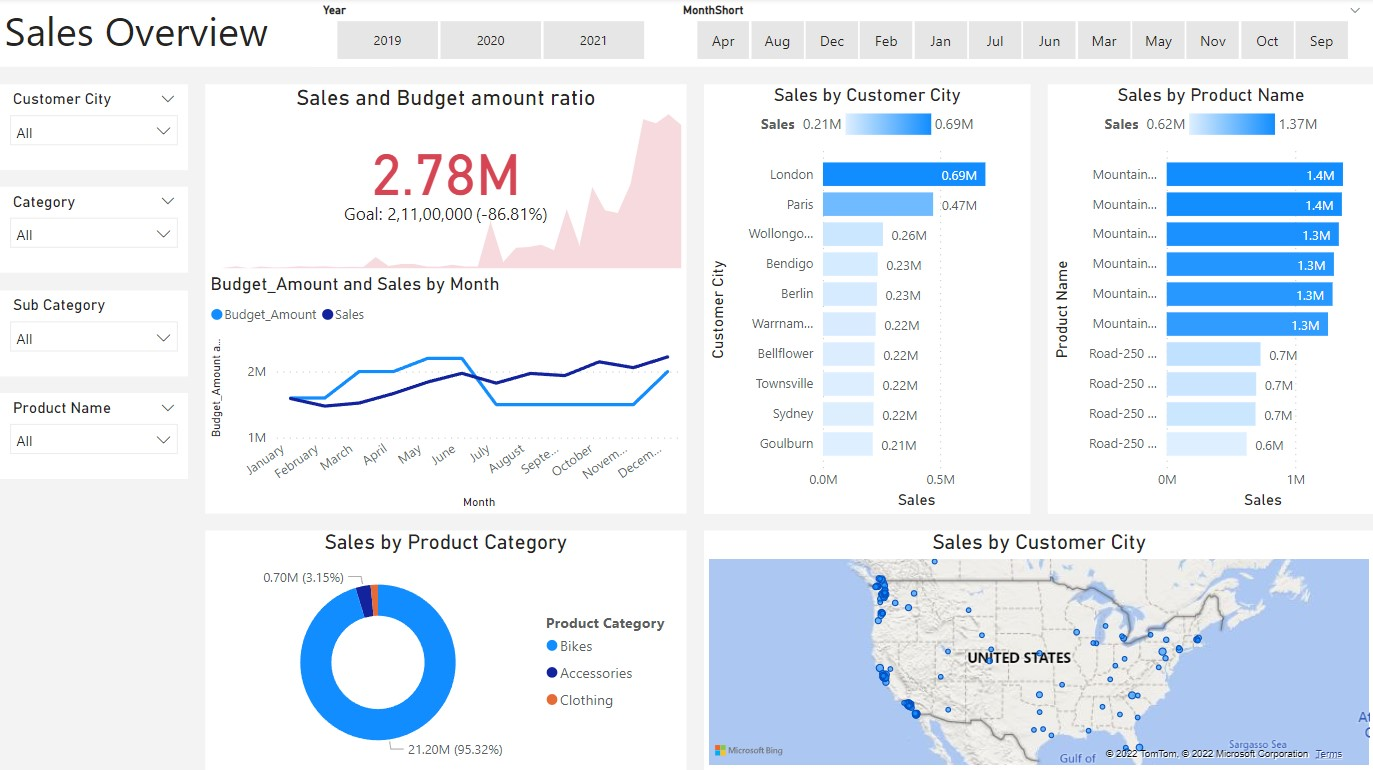

The page's visual inventory and layout, read from the dashboard file:
{"tool":"powerbi","page":{"name":"Sales Overview","canvas":[1280,720],"ordinal":0},"visuals":[{"type":"kpi","title":"Sales and Budget amount ratio","fields":{"Goal":["Budget.Budget_Amount"],"Indicator":["FactInternetSale.Sales"],"TrendLine":["FactInternetSale.SalesAmount"]},"box":[192,80,448,176],"z":0},{"type":"donutChart","fields":{"Y":["FactInternetSale.Sales"],"Category":["DIM_Products.Product Category"]},"box":[192,496,448,224],"z":1000},{"type":"map","fields":{"Category":["DIM_Customer.Customer City"],"Size":["FactInternetSale.Sales"]},"box":[656,496,624,224],"z":2000},{"type":"textbox","box":[0,0,368,64],"z":3000},{"type":"slicer","fields":{"Values":["Dim_Date_Excel.Year"]},"box":[288,0,336,64],"z":4000},{"type":"slicer","fields":{"Values":["Dim_Date_Excel.MonthShort"]},"box":[624,0,656,64],"z":5000},{"type":"barChart","fields":{"Category":["DIM_Customer.Customer City"],"Y":["FactInternetSale.Sales"]},"box":[656,80,304,400],"z":6000},{"type":"slicer","fields":{"Values":["DIM_Customer.Customer City"]},"box":[0,80,176,80],"z":7000},{"type":"slicer","fields":{"Values":["DIM_Products.Sub Category"]},"box":[0,272,176,80],"z":8000},{"type":"slicer","fields":{"Values":["DIM_Products.Product Category"]},"box":[0,176,176,80],"z":9000},{"type":"slicer","fields":{"Values":["DIM_Products.Product Name"]},"box":[0,368,176,80],"z":10000},{"type":"barChart","fields":{"Category":["DIM_Products.Product Name"],"Y":["FactInternetSale.Sales"]},"box":[976,80,304,400],"z":11000},{"type":"lineChart","fields":{"Y":["Budget.Budget_Amount","FactInternetSale.Sales"],"Category":["Dim_Date_Excel.Date.Variation.Date Hierarchy.Month"]},"box":[192,256,448,224],"z":12000}]}

Visuals, with their boxes in screenshot pixels (x1, y1, x2, y2), scaled from the page's 1280x720 canvas onto the 1373x770 screenshot:
"Sales and Budget amount ratio" kpi: bbox(206, 86, 686, 274)
donutChart - FactInternetSale.Sales x DIM_Products.Product Category: bbox(206, 530, 686, 769)
map - DIM_Customer.Customer City x FactInternetSale.Sales: bbox(704, 530, 1372, 769)
textbox: bbox(0, 0, 395, 68)
slicer - Dim_Date_Excel.Year: bbox(309, 0, 669, 68)
slicer - Dim_Date_Excel.MonthShort: bbox(669, 0, 1372, 68)
barChart - DIM_Customer.Customer City x FactInternetSale.Sales: bbox(704, 86, 1030, 513)
slicer - DIM_Customer.Customer City: bbox(0, 86, 189, 171)
slicer - DIM_Products.Sub Category: bbox(0, 291, 189, 376)
slicer - DIM_Products.Product Category: bbox(0, 188, 189, 274)
slicer - DIM_Products.Product Name: bbox(0, 394, 189, 479)
barChart - DIM_Products.Product Name x FactInternetSale.Sales: bbox(1047, 86, 1372, 513)
lineChart - Budget.Budget_Amount x FactInternetSale.Sales: bbox(206, 274, 686, 513)
